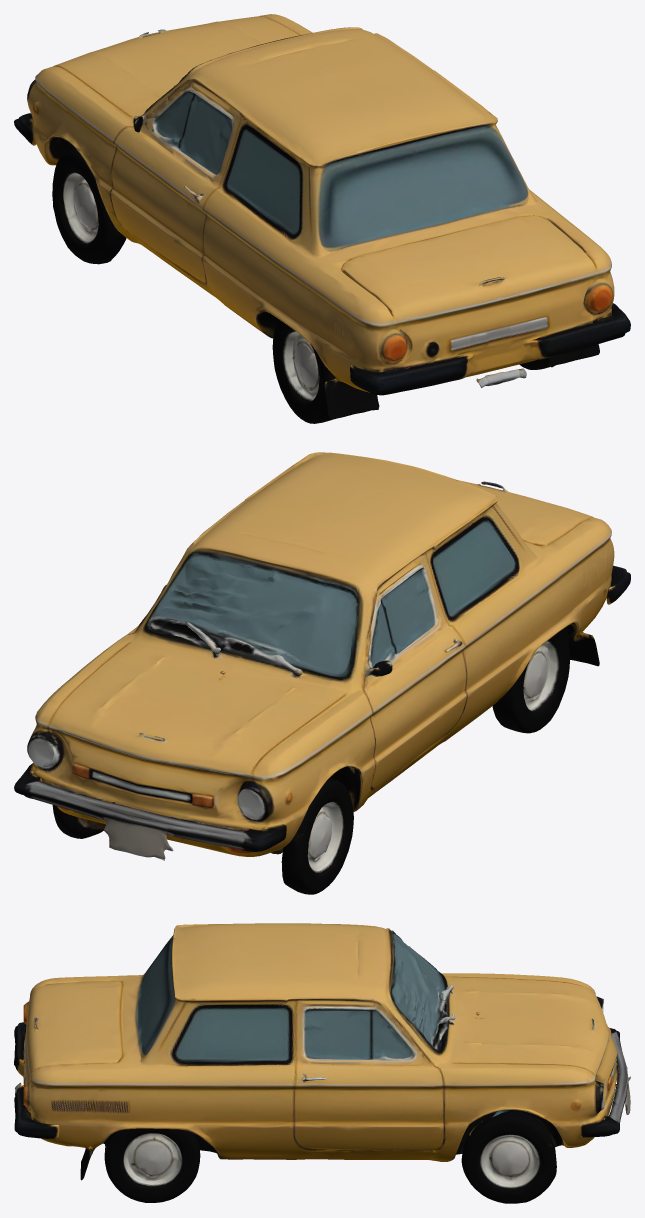
Rendered from zaz_968m.glb.
The picture shows the model from 3 angles, top to bottom: view 1: azimuth 30°, elevation 25°; view 2: azimuth 150°, elevation 25°; view 3: azimuth 270°, elevation 25°; orthographic projection. The views are drawn at different scales.
Parts seen in each view (by area): view 1: tripo_node_eacd20b5-61ef-4bd4-b7f5-b49ad2d4dc94_0; view 2: tripo_node_eacd20b5-61ef-4bd4-b7f5-b49ad2d4dc94_0; view 3: tripo_node_eacd20b5-61ef-4bd4-b7f5-b49ad2d4dc94_0.
Part boxes in pixels (left/top/right/bottom): tripo_node_eacd20b5-61ef-4bd4-b7f5-b49ad2d4dc94_0: left=14, top=14, right=630, bottom=423; tripo_node_eacd20b5-61ef-4bd4-b7f5-b49ad2d4dc94_0: left=14, top=452, right=630, bottom=894; tripo_node_eacd20b5-61ef-4bd4-b7f5-b49ad2d4dc94_0: left=14, top=923, right=630, bottom=1203.
Size of the model in its own units: 0.4164 by 0.3684 by 0.9998.
1 material, 1 textured.
